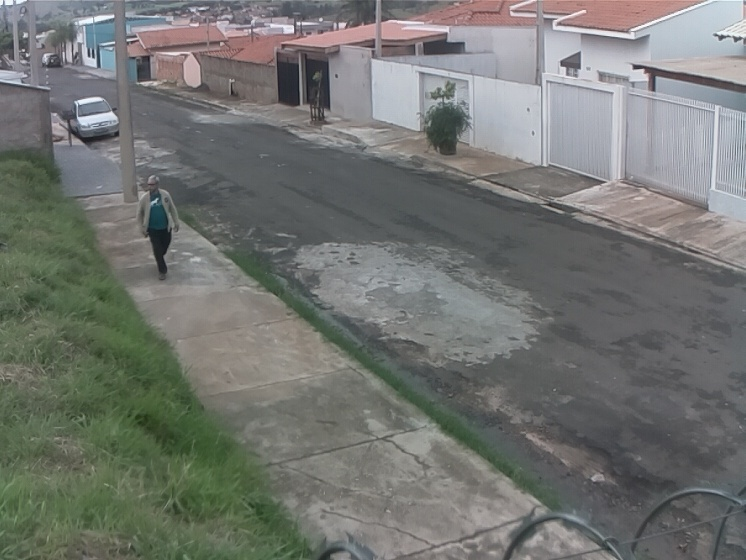person: (135, 173, 184, 280)
